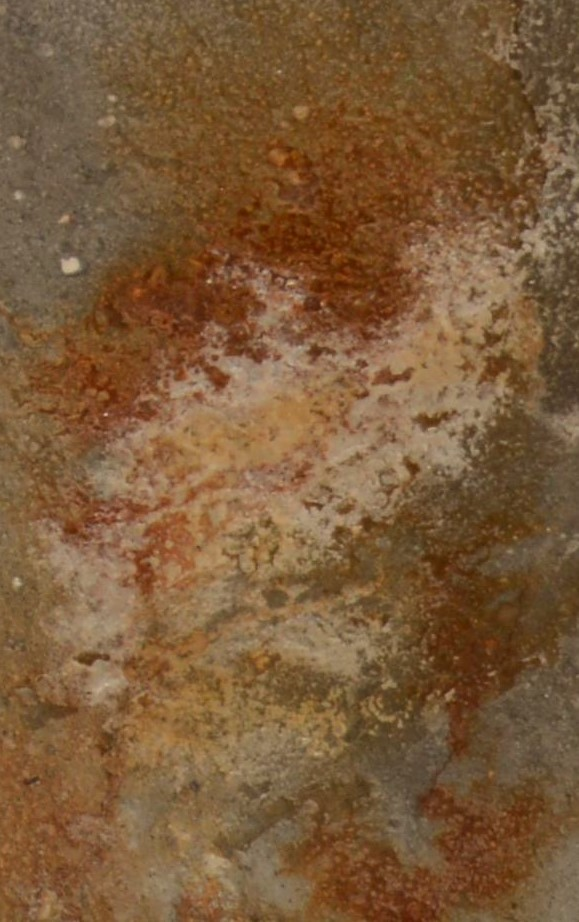Corrosion: (1, 1, 579, 922)
